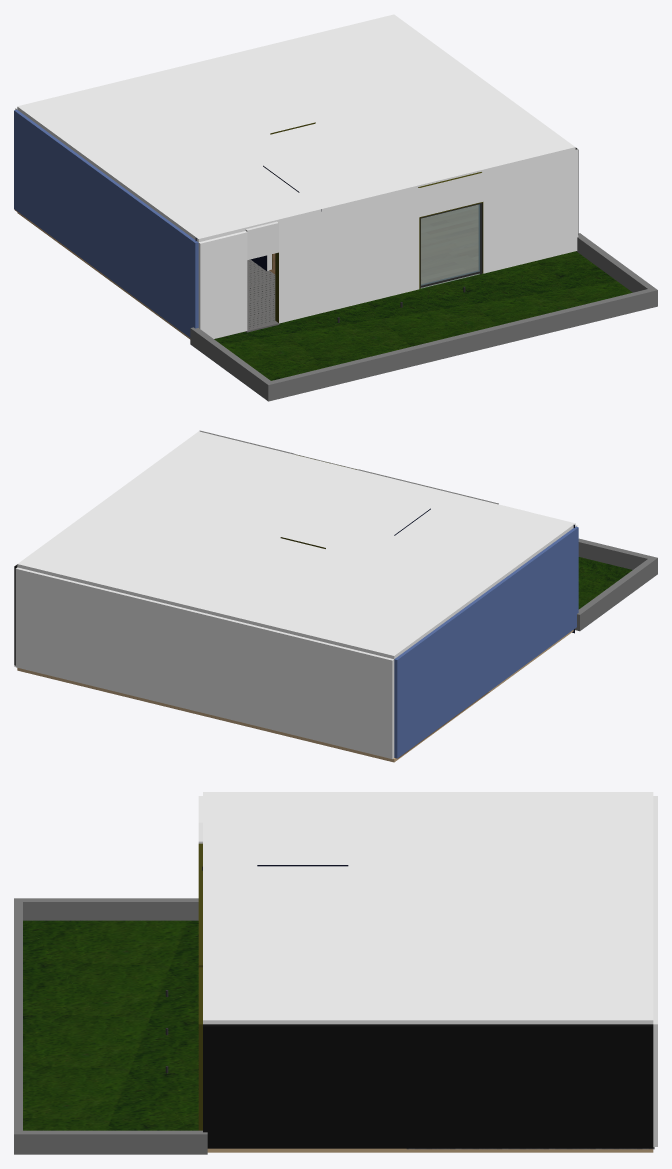
Rendered from structure.glb.
The picture shows the model from 3 angles, top to bottom: view 1: azimuth 30°, elevation 25°; view 2: azimuth 150°, elevation 25°; view 3: azimuth 270°, elevation 25°; orthographic projection. The views are drawn at different scales.
Parts seen in each view (by area): view 1: ceiling-slab, front-yard-floor, wall-west, 2a7cdd6f9d04f-19c74290c86, 1e6229faca67f8-19c742b9800, yard-wall-south, wall-south-seg-1, window-south-glass, 783be8417c9b68-19c6daa8d28, 1b661a4c44dd48-19c742c52f8, yard-wall-west, c087837b444638-19c7296d766 (+2 smaller); view 2: ceiling-slab, wall-north, wall-west, yard-wall-west, apartment-floor, front-yard-floor, yard-wall-south; view 3: ceiling-slab, wall-east, front-yard-floor, yard-wall-east, yard-wall-west, yard-wall-south, apartment-floor, wall-north, wall-south-seg-3.
Boxes of the visible parts, x1=… form: ceiling-slab: x1=17, y1=14, x2=575, y2=242; front-yard-floor: x1=214, y1=251, x2=632, y2=380; wall-west: x1=14, y1=109, x2=198, y2=337; 2a7cdd6f9d04f-19c74290c86: x1=279, y1=188, x2=419, y2=323; 1e6229faca67f8-19c742b9800: x1=483, y1=149, x2=578, y2=273; yard-wall-south: x1=264, y1=289, x2=657, y2=401; wall-south-seg-1: x1=198, y1=231, x2=247, y2=338; window-south-glass: x1=421, y1=204, x2=479, y2=288; 783be8417c9b68-19c6daa8d28: x1=269, y1=205, x2=478, y2=284; 1b661a4c44dd48-19c742c52f8: x1=410, y1=167, x2=504, y2=219; yard-wall-west: x1=190, y1=327, x2=272, y2=399; c087837b444638-19c7296d766: x1=219, y1=259, x2=276, y2=337; ceiling-slab: x1=17, y1=431, x2=575, y2=658; wall-north: x1=15, y1=567, x2=394, y2=758; wall-west: x1=394, y1=526, x2=578, y2=758; yard-wall-west: x1=575, y1=557, x2=655, y2=631; apartment-floor: x1=17, y1=630, x2=573, y2=762; front-yard-floor: x1=578, y1=557, x2=632, y2=609; yard-wall-south: x1=578, y1=538, x2=657, y2=576; ceiling-slab: x1=203, y1=792, x2=653, y2=1024; wall-east: x1=203, y1=1024, x2=653, y2=1148; front-yard-floor: x1=23, y1=920, x2=198, y2=1130; yard-wall-east: x1=18, y1=1130, x2=207, y2=1154; yard-wall-west: x1=18, y1=898, x2=198, y2=920; yard-wall-south: x1=14, y1=898, x2=22, y2=1154; apartment-floor: x1=207, y1=1148, x2=653, y2=1152; wall-north: x1=653, y1=796, x2=657, y2=1146; wall-south-seg-3: x1=198, y1=967, x2=202, y2=1130.
Bounding box in the file's own units: 12.4 × 3.34 × 14.3.
80 materials, 5 textured.
